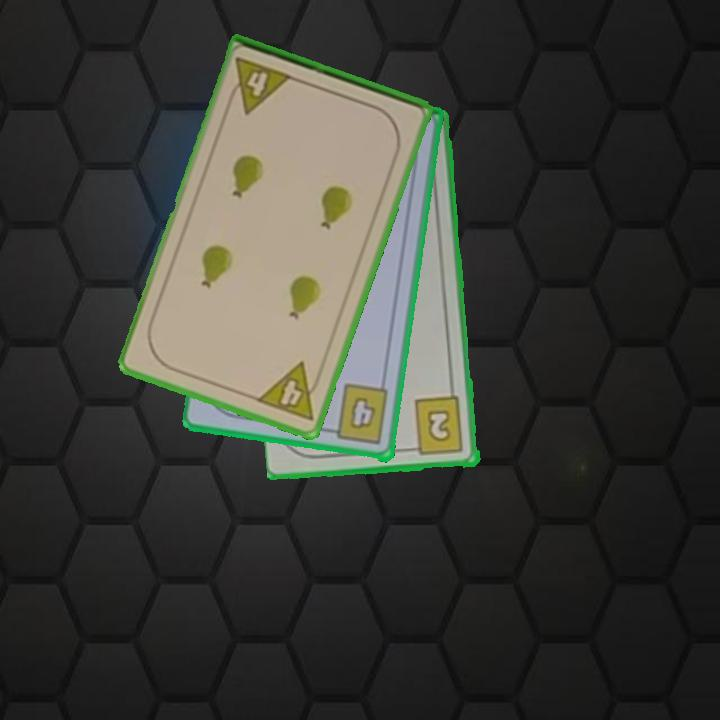2b: (405, 394, 467, 459)
4b: (323, 381, 391, 448)
4p: (253, 358, 327, 425), (223, 53, 296, 117)
